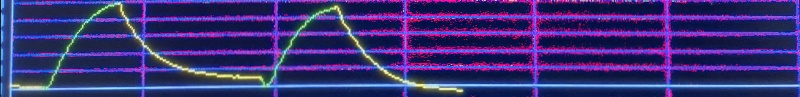normal_volume: (5, 0, 468, 94)
